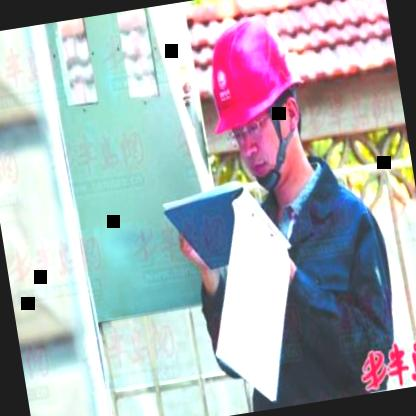helmet: (185, 0, 326, 202)
